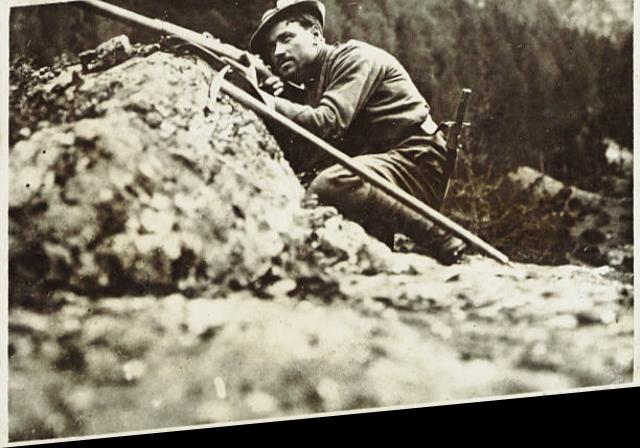other: (252, 0, 438, 214)
